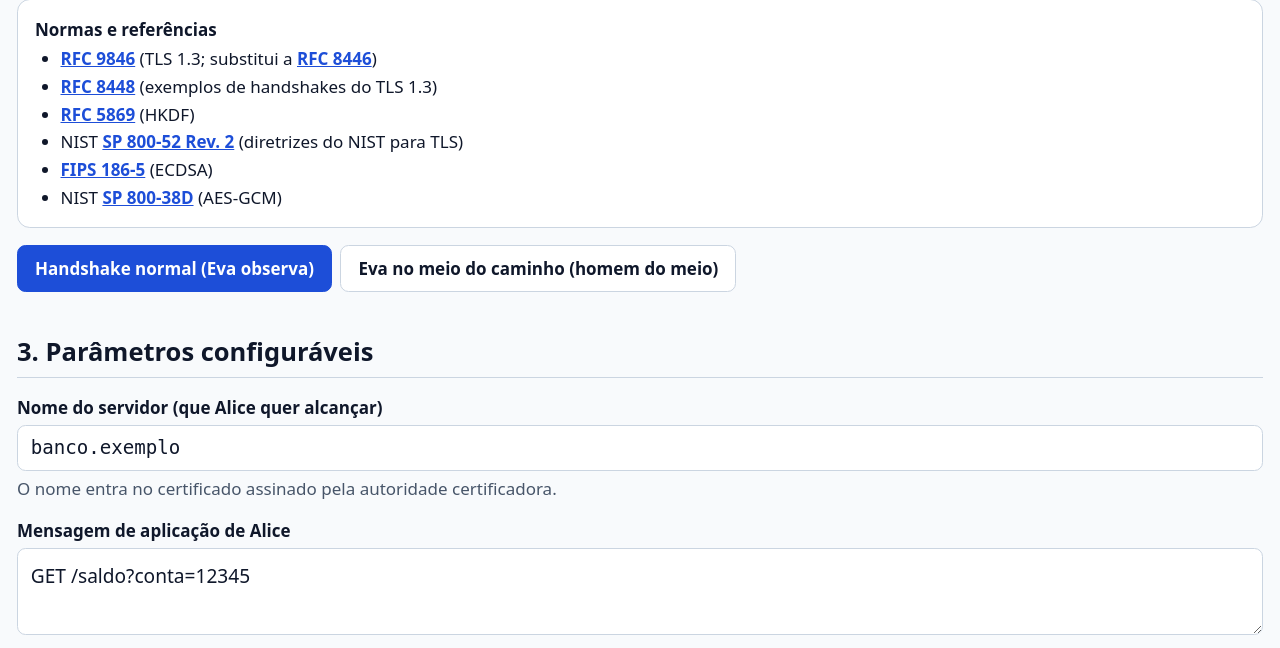
laboratório do handshake do TLS 1.3 › homem do meio com verificação: Alice interrompe o handshake
(page scrolled)
Click the radio button labelled "Eva no meio do caminho (homem do meio)" at (538, 268), box left=340, top=245, right=736, bottom=292
(page scrolled)
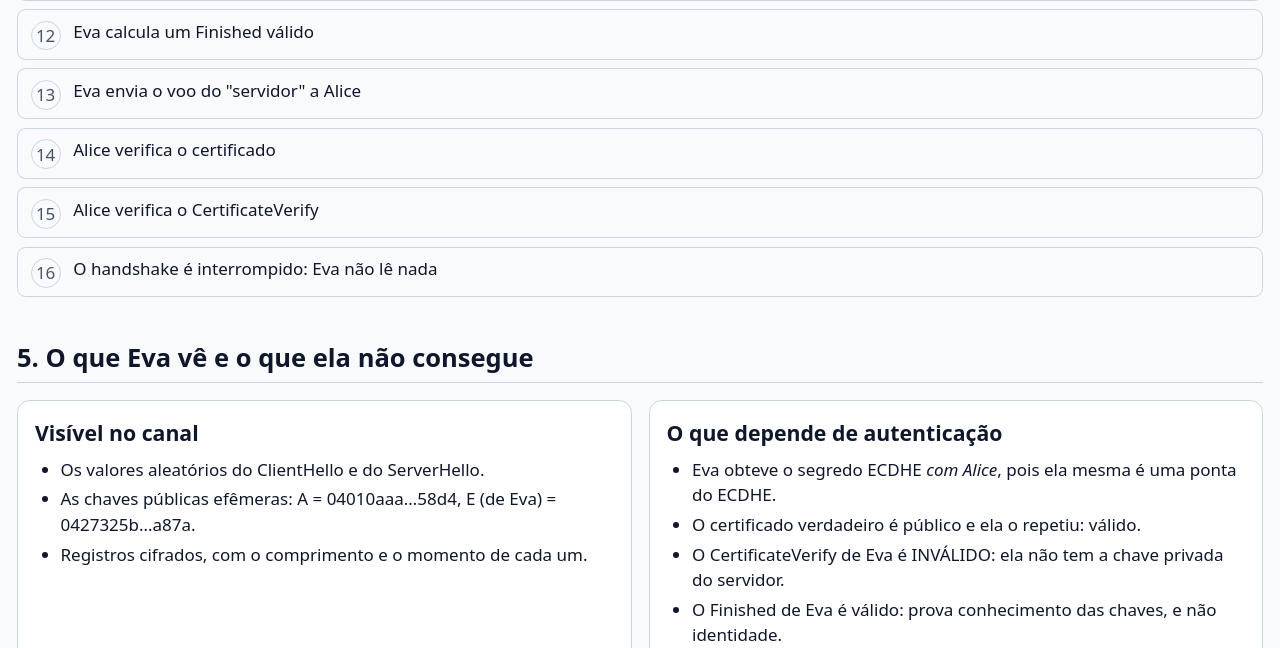
expect the text "O handshake é interrompido: Eva não lê nada" is shown: met, box left=73, top=256, right=438, bottom=282
